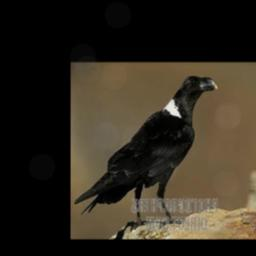Crow: (73, 75, 218, 232)
